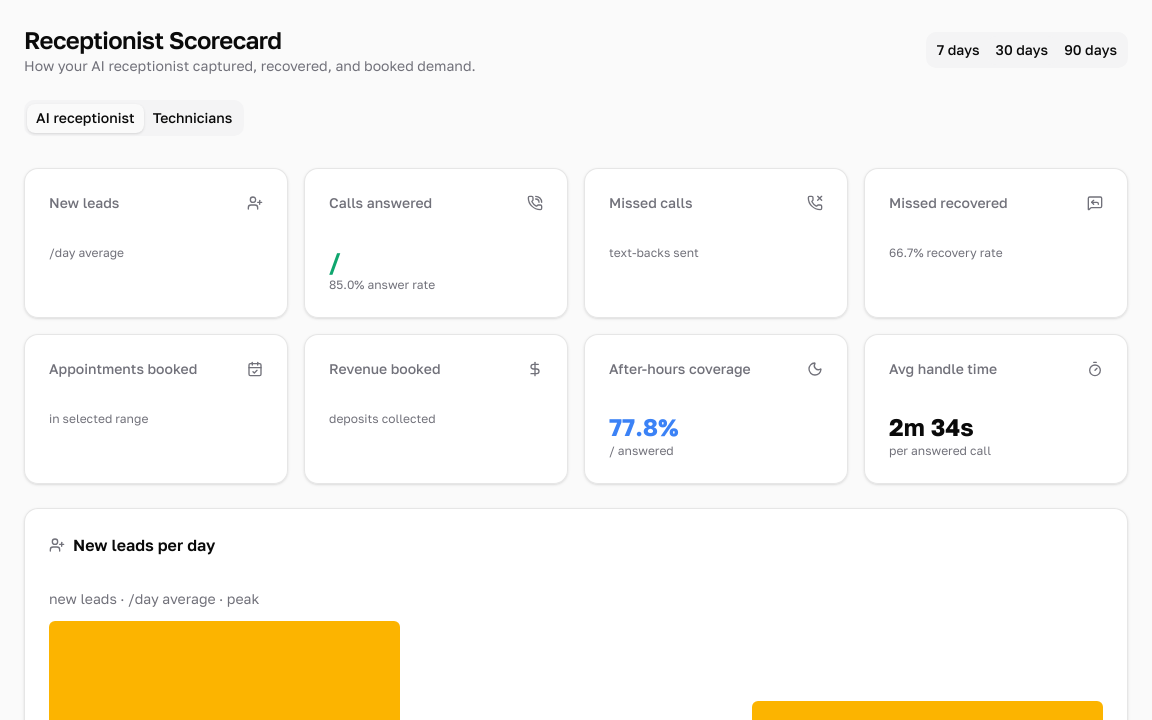
Test: ScorecardPage › shows pause-adjusted technician activity without a rating
Click the tab "Technicians" at (192, 118), box [144,104,241,132]
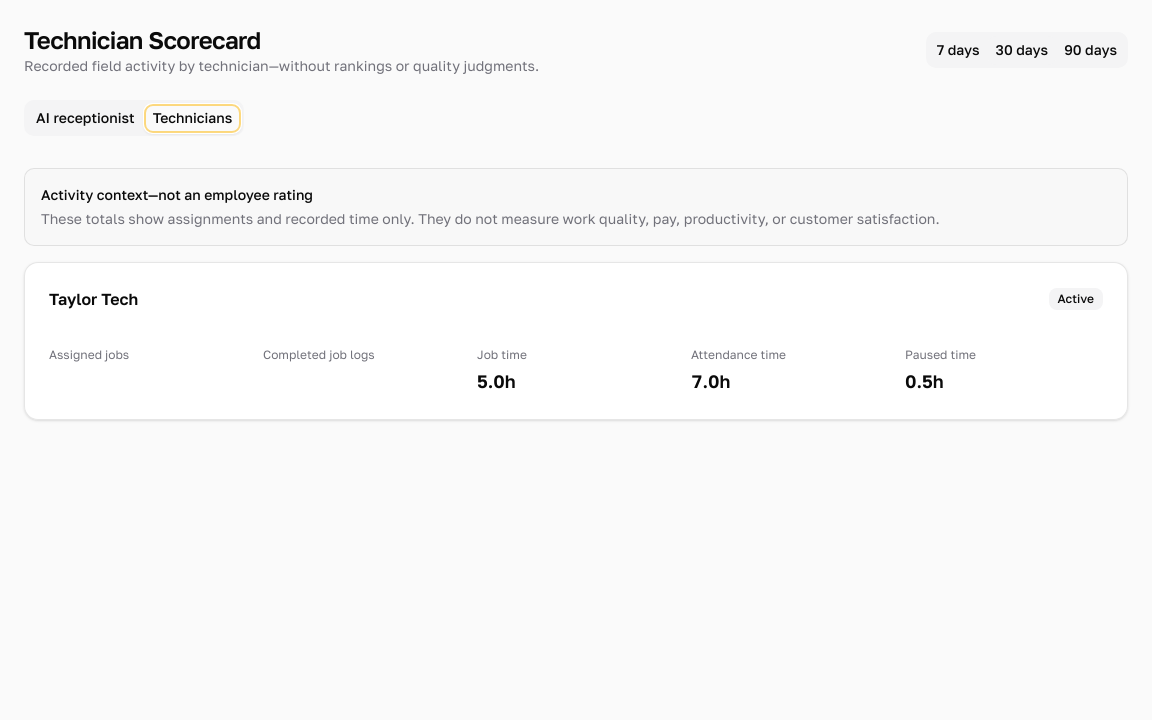
Expected: the heading "Technician Scorecard" is shown, [24,25,261,54]
Expected: the text "Taylor Tech" is shown, [49,287,138,311]
Expected: the text "7.0h" is shown, [691,370,730,392]
